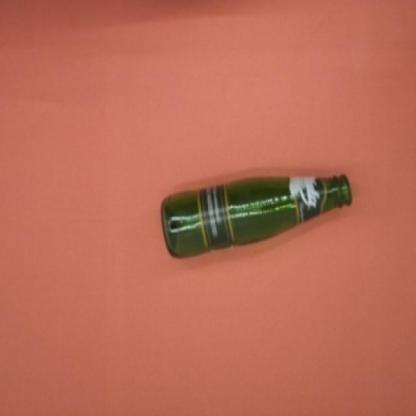Can: (160, 173, 352, 259)
